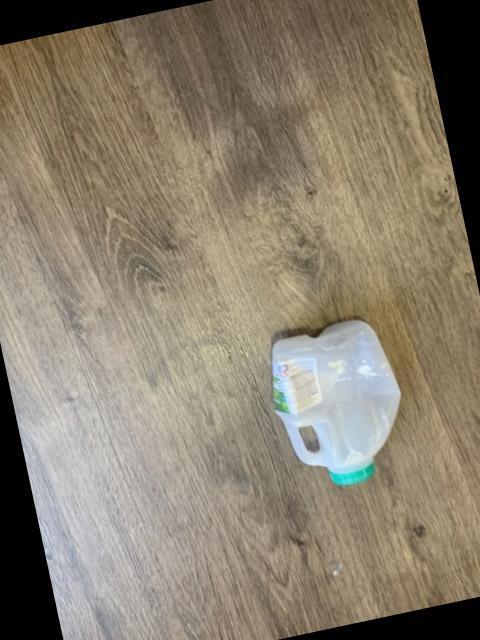plastic: (274, 321, 401, 485)
